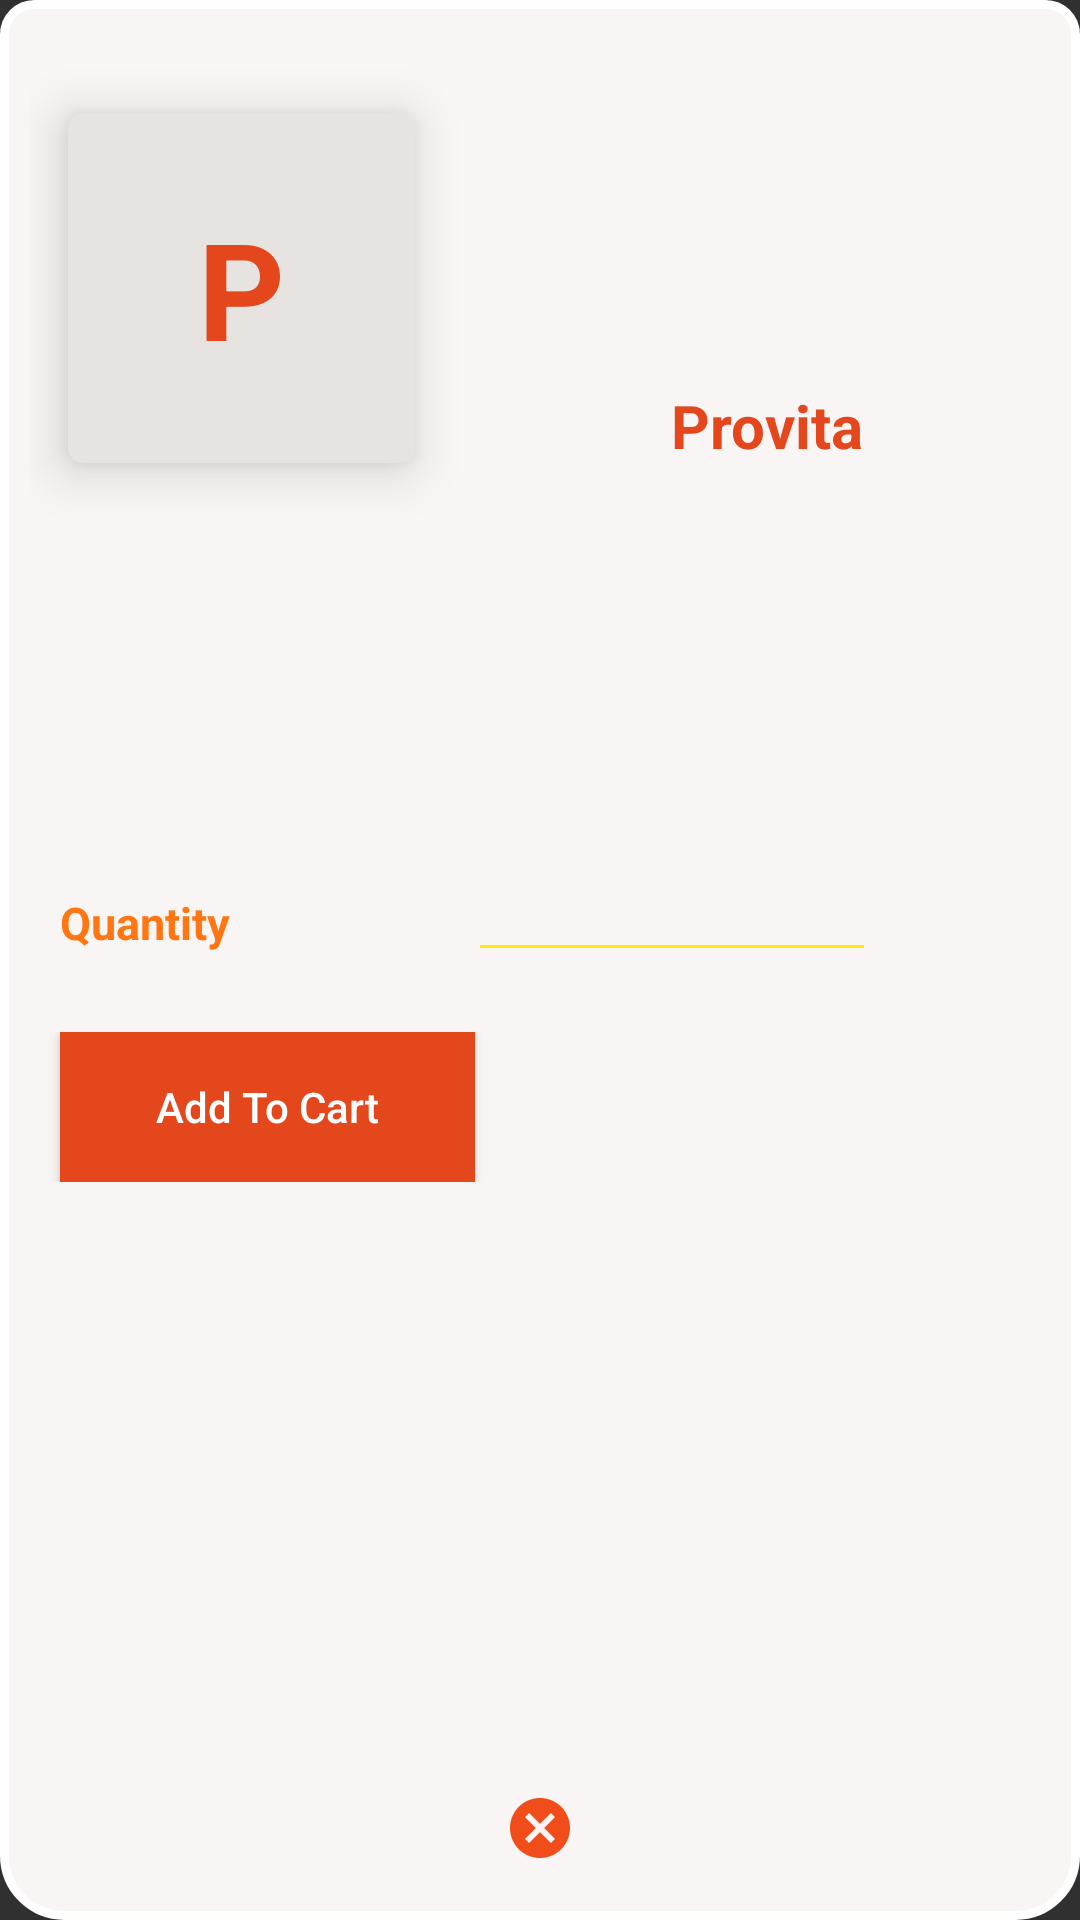

Screen size 1080*1920. Icon name, then its box in pixels as region(x1, y1, x2, y2):
cancel: region(510, 1798, 570, 1858)
